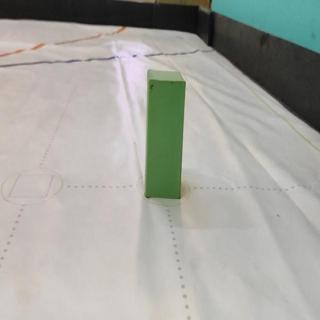greenbox: (145, 66, 186, 201)
